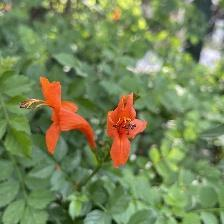honeysuckle: (21, 74, 102, 159)
